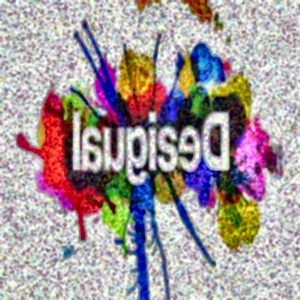desigual: (203, 51, 265, 154)
